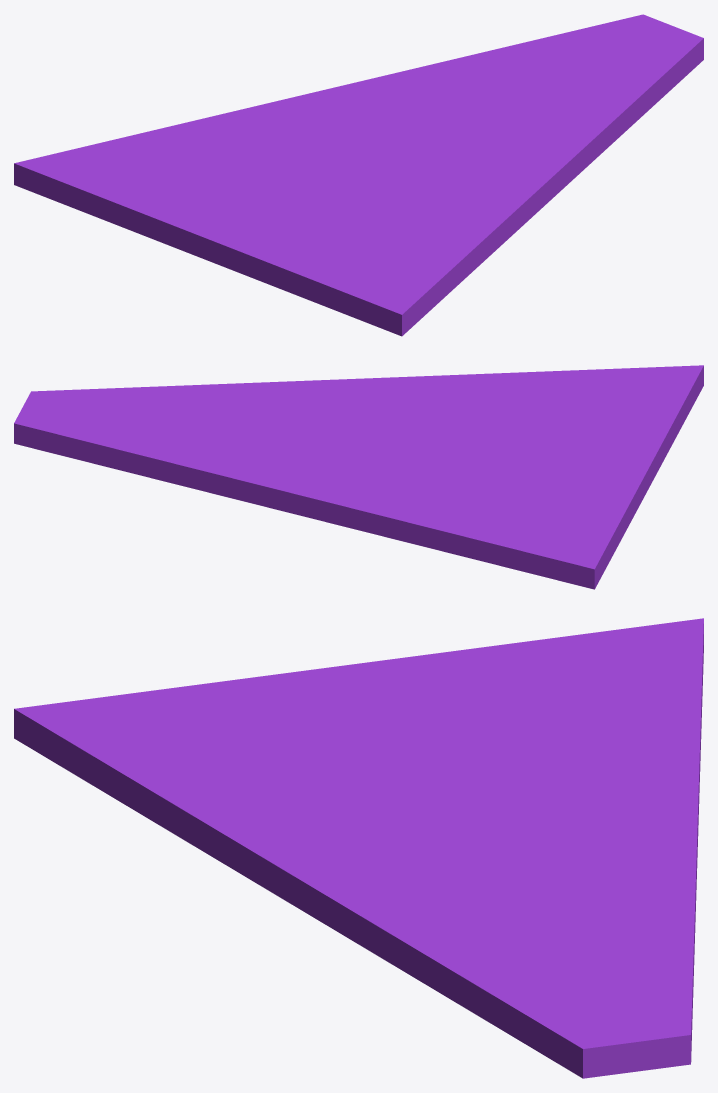
The model's file is StairsStep_215.fbx.
3 renders of one model, top to bottom at view 1: azimuth 30°, elevation 25°; view 2: azimuth 150°, elevation 25°; view 3: azimuth 270°, elevation 25°, orthographic. The views are drawn at different scales.
Visible parts, largest first — view 1: StairsStep_215; view 2: StairsStep_215; view 3: StairsStep_215.
Boxes of the visible parts, x1,y1,x2,y2 form: StairsStep_215: (14,14,703,336); StairsStep_215: (14,365,703,589); StairsStep_215: (14,618,703,1078).
Size of the model in its own units: 560 by 17.94 by 379.
